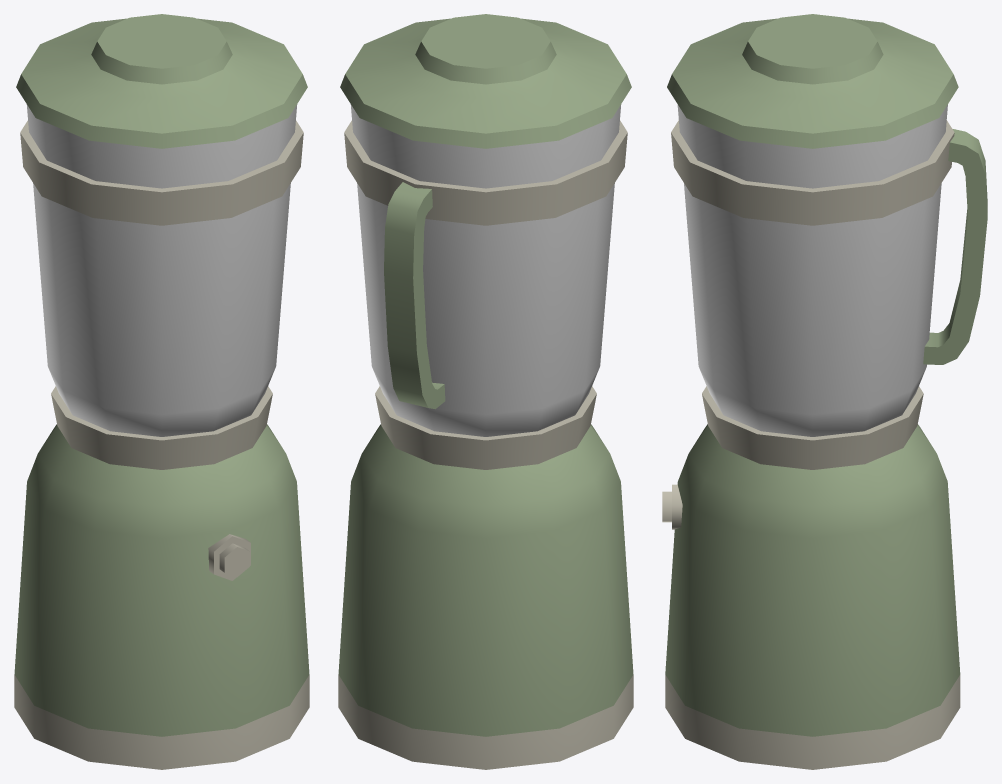
File: Blender_01.fbx
The picture shows the model from 3 angles, left to right: view 1: azimuth 30°, elevation 25°; view 2: azimuth 150°, elevation 25°; view 3: azimuth 270°, elevation 25°; orthographic projection.
Visible parts, largest first — view 1: Blender_01, Blender_01_Lid; view 2: Blender_01, Blender_01_Lid; view 3: Blender_01, Blender_01_Lid.
Boxes of the visible parts, box(x1,y1,x2,y2) form: Blender_01: box(14, 104, 309, 769); Blender_01_Lid: box(16, 14, 307, 148); Blender_01: box(338, 104, 633, 769); Blender_01_Lid: box(340, 14, 631, 148); Blender_01: box(662, 104, 987, 769); Blender_01_Lid: box(667, 14, 958, 148).
Bounding box in the file's own units: 0.1904 × 0.4745 × 0.2101.
